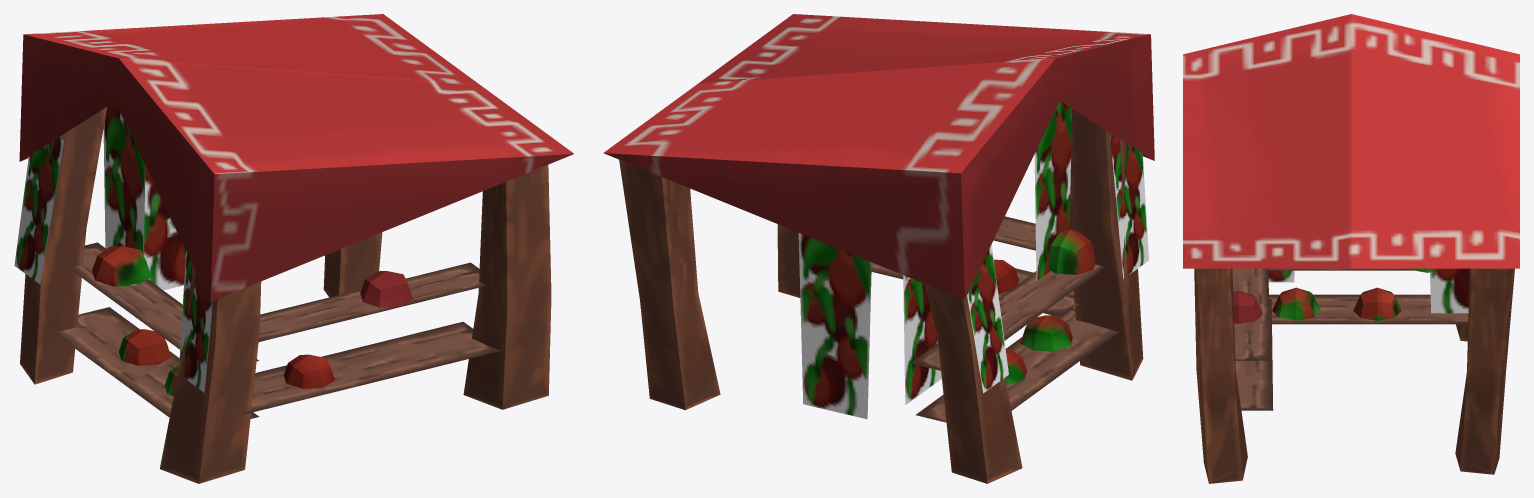
File: Tria_P_Tent-Var02.fbx
The picture shows the model from 3 angles, left to right: view 1: azimuth 30°, elevation 25°; view 2: azimuth 150°, elevation 25°; view 3: azimuth 270°, elevation 25°; orthographic projection. The views are drawn at different scales.
Parts seen in each view (by area): view 1: Tria_P_Tent-Var02_Model; view 2: Tria_P_Tent-Var02_Model; view 3: Tria_P_Tent-Var02_Model.
Part boxes in pixels (bbox=[...]): Tria_P_Tent-Var02_Model: bbox=[14, 14, 573, 483]; Tria_P_Tent-Var02_Model: bbox=[603, 14, 1154, 483]; Tria_P_Tent-Var02_Model: bbox=[1183, 14, 1519, 483].
Bounding box in the file's own units: 221 × 199 × 190.
